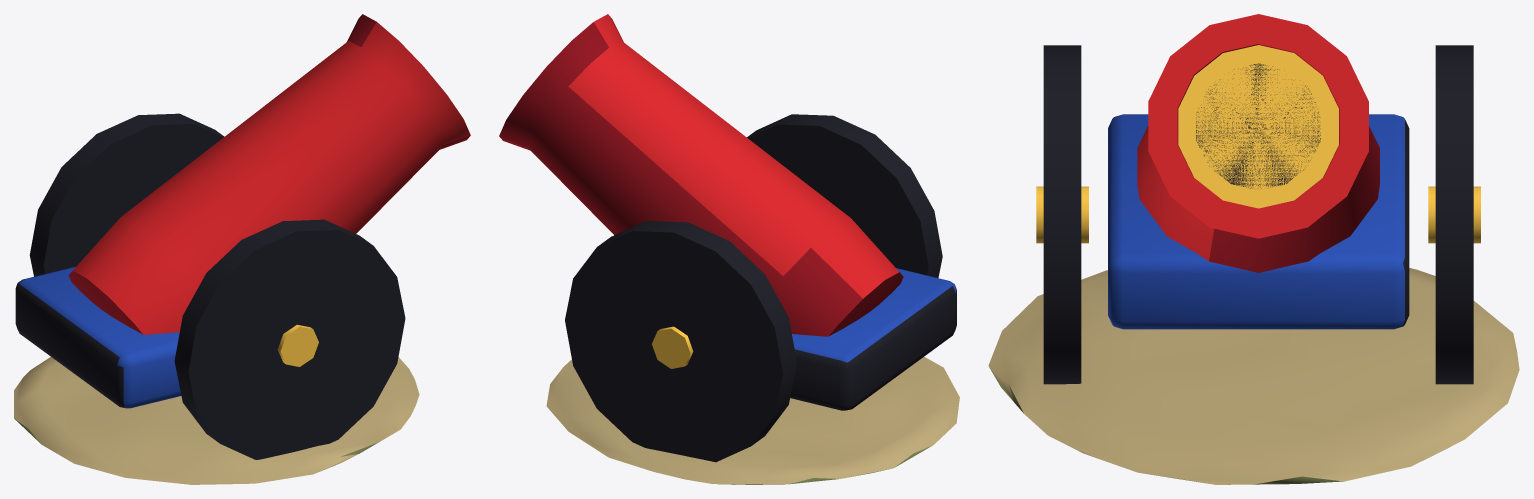
Rendered from CircusCannon.fbx.
The picture shows the model from 3 angles, left to right: view 1: azimuth 30°, elevation 25°; view 2: azimuth 150°, elevation 25°; view 3: azimuth 270°, elevation 25°; orthographic projection. The views are drawn at different scales.
Parts seen in each view (by area): view 1: CircusCannon; view 2: CircusCannon; view 3: CircusCannon.
Boxes of the visible parts, bbox=[...] form: CircusCannon: bbox=[14, 14, 470, 484]; CircusCannon: bbox=[499, 14, 959, 484]; CircusCannon: bbox=[988, 14, 1519, 484].
Size of the model in its own units: 1.71 by 1.35 by 1.41.
1 material, 1 textured.
